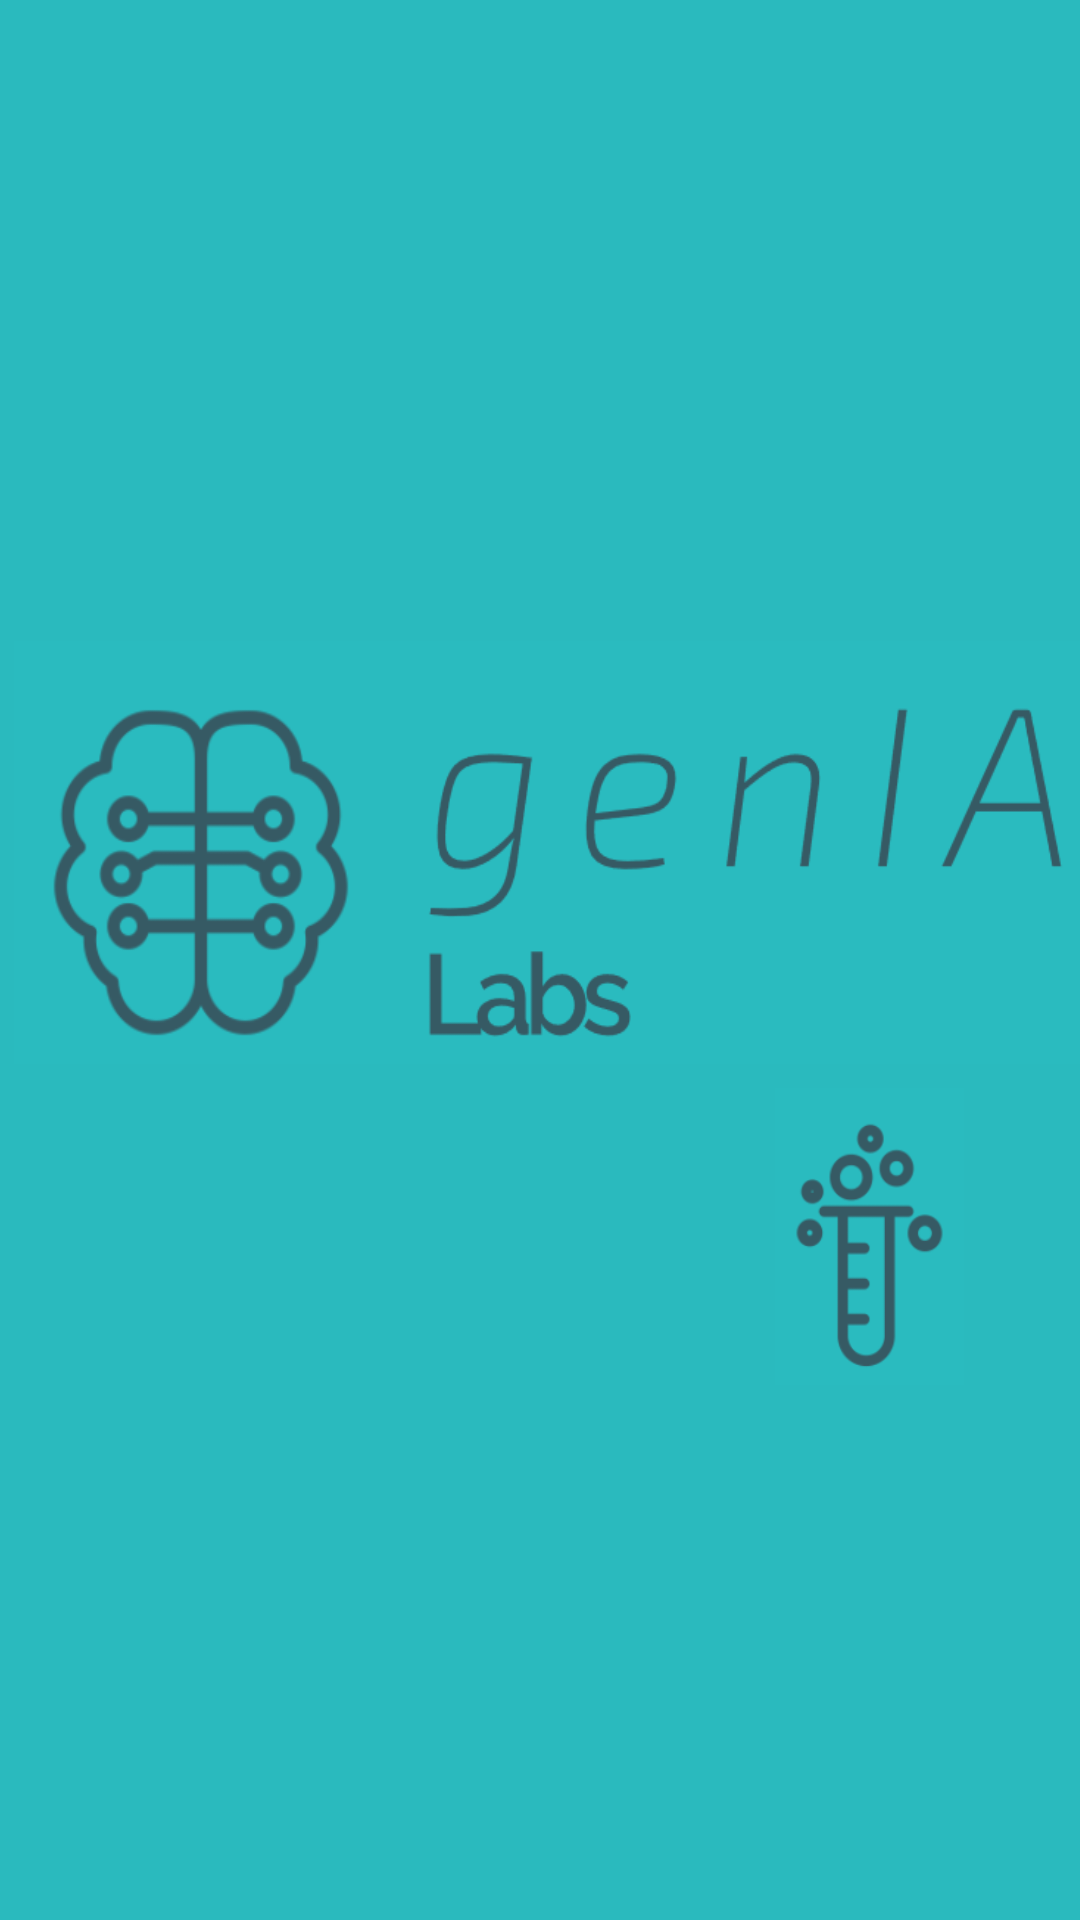

Where icons sit on this 1080x1920 app screen, as (x1, y1, x2, y2):
labs: (796, 1124, 943, 1366)
